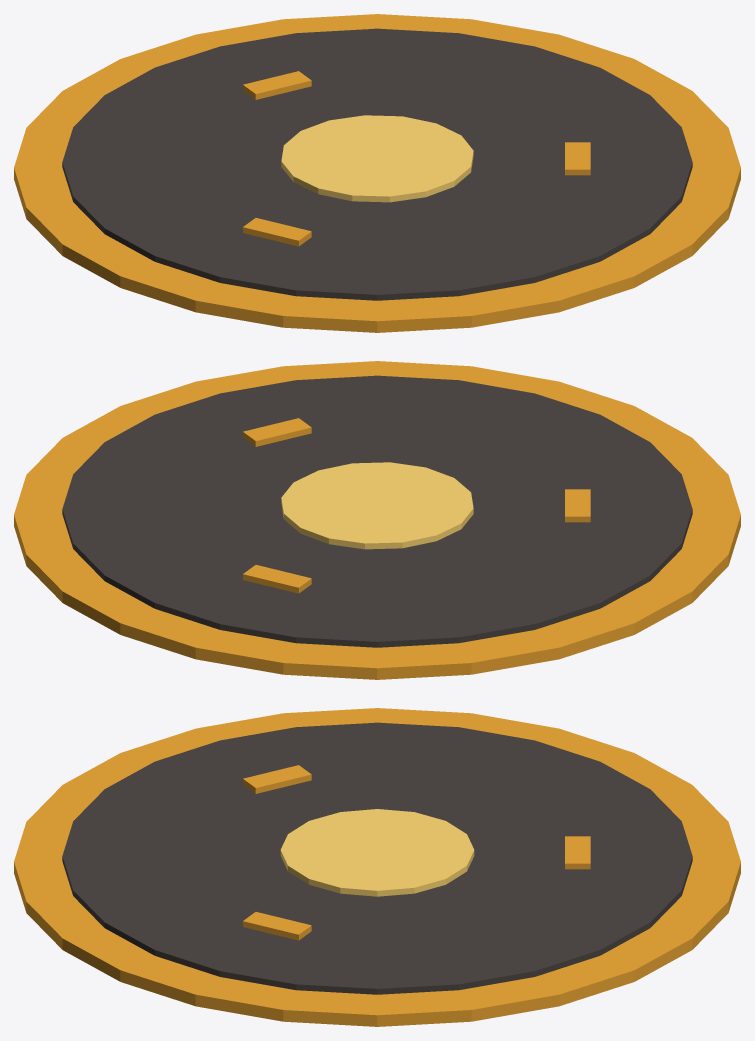
File: teleport_circle.glb
3 renders of one model, top to bottom at view 1: azimuth 30°, elevation 25°; view 2: azimuth 150°, elevation 25°; view 3: azimuth 270°, elevation 25°, orthographic.
Visible parts, largest first — view 1: TeleportCircle; view 2: TeleportCircle; view 3: TeleportCircle.
Boxes of the visible parts, left/top/right/bottom form: TeleportCircle: left=14, top=14, right=740, bottom=332; TeleportCircle: left=14, top=361, right=740, bottom=679; TeleportCircle: left=14, top=708, right=740, bottom=1026.
Size of the model in its own units: 2.25 by 0.08 by 2.25.
